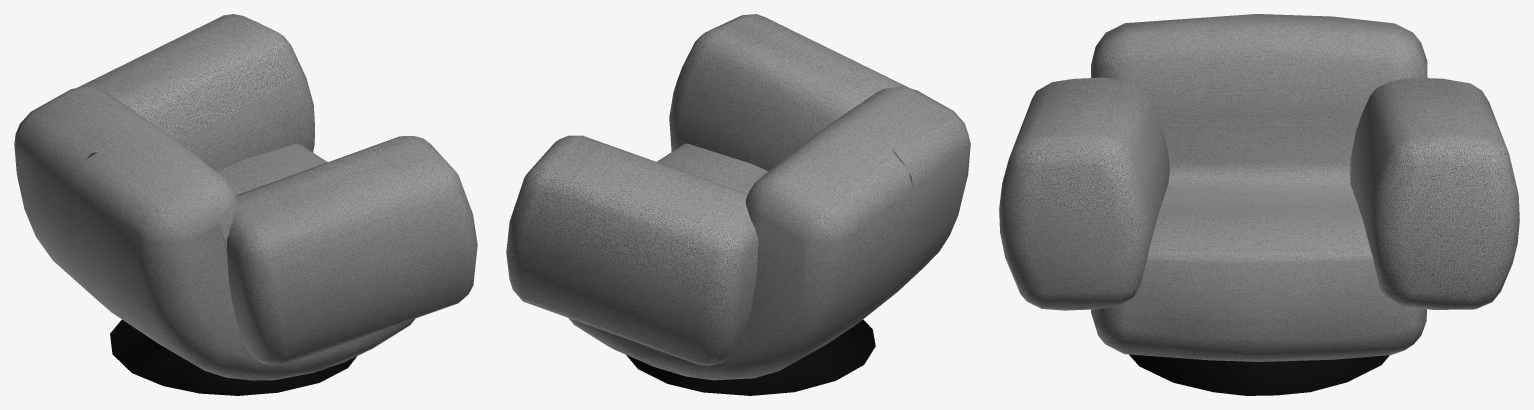
Rendered from NTSF1.obj.
The picture shows the model from 3 angles, left to right: view 1: azimuth 30°, elevation 25°; view 2: azimuth 150°, elevation 25°; view 3: azimuth 270°, elevation 25°; orthographic projection. The views are drawn at different scales.
Parts seen in each view (by area): view 1: Sittdel2_1; view 2: Sittdel2_1; view 3: Sittdel2_1.
Part boxes in pixels (x1=…): Sittdel2_1: x1=14, y1=14, x2=477, y2=395; Sittdel2_1: x1=506, y1=14, x2=970, y2=395; Sittdel2_1: x1=999, y1=14, x2=1519, y2=395.
Bounding box in the file's own units: 8.97 × 6.71 × 12.05.
